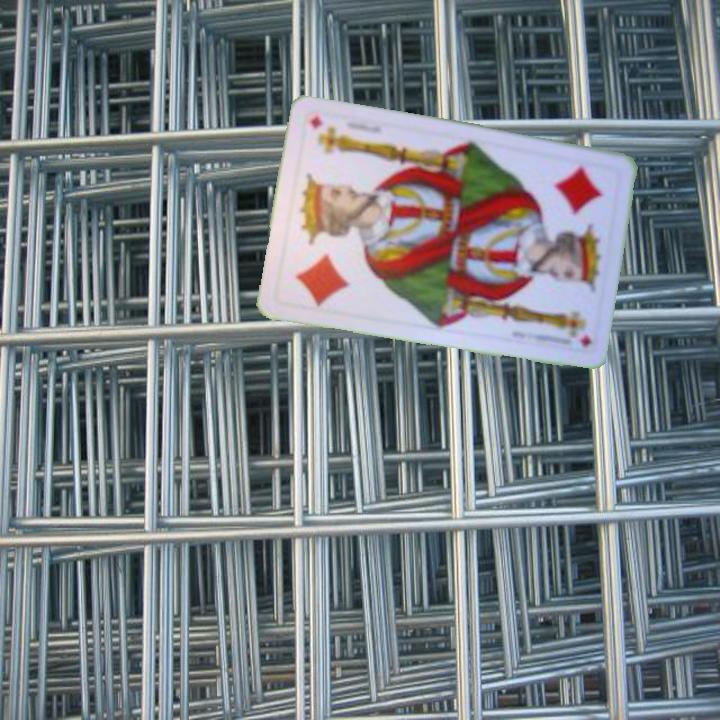d_k.png: (272, 205, 373, 316), (521, 150, 621, 262)
